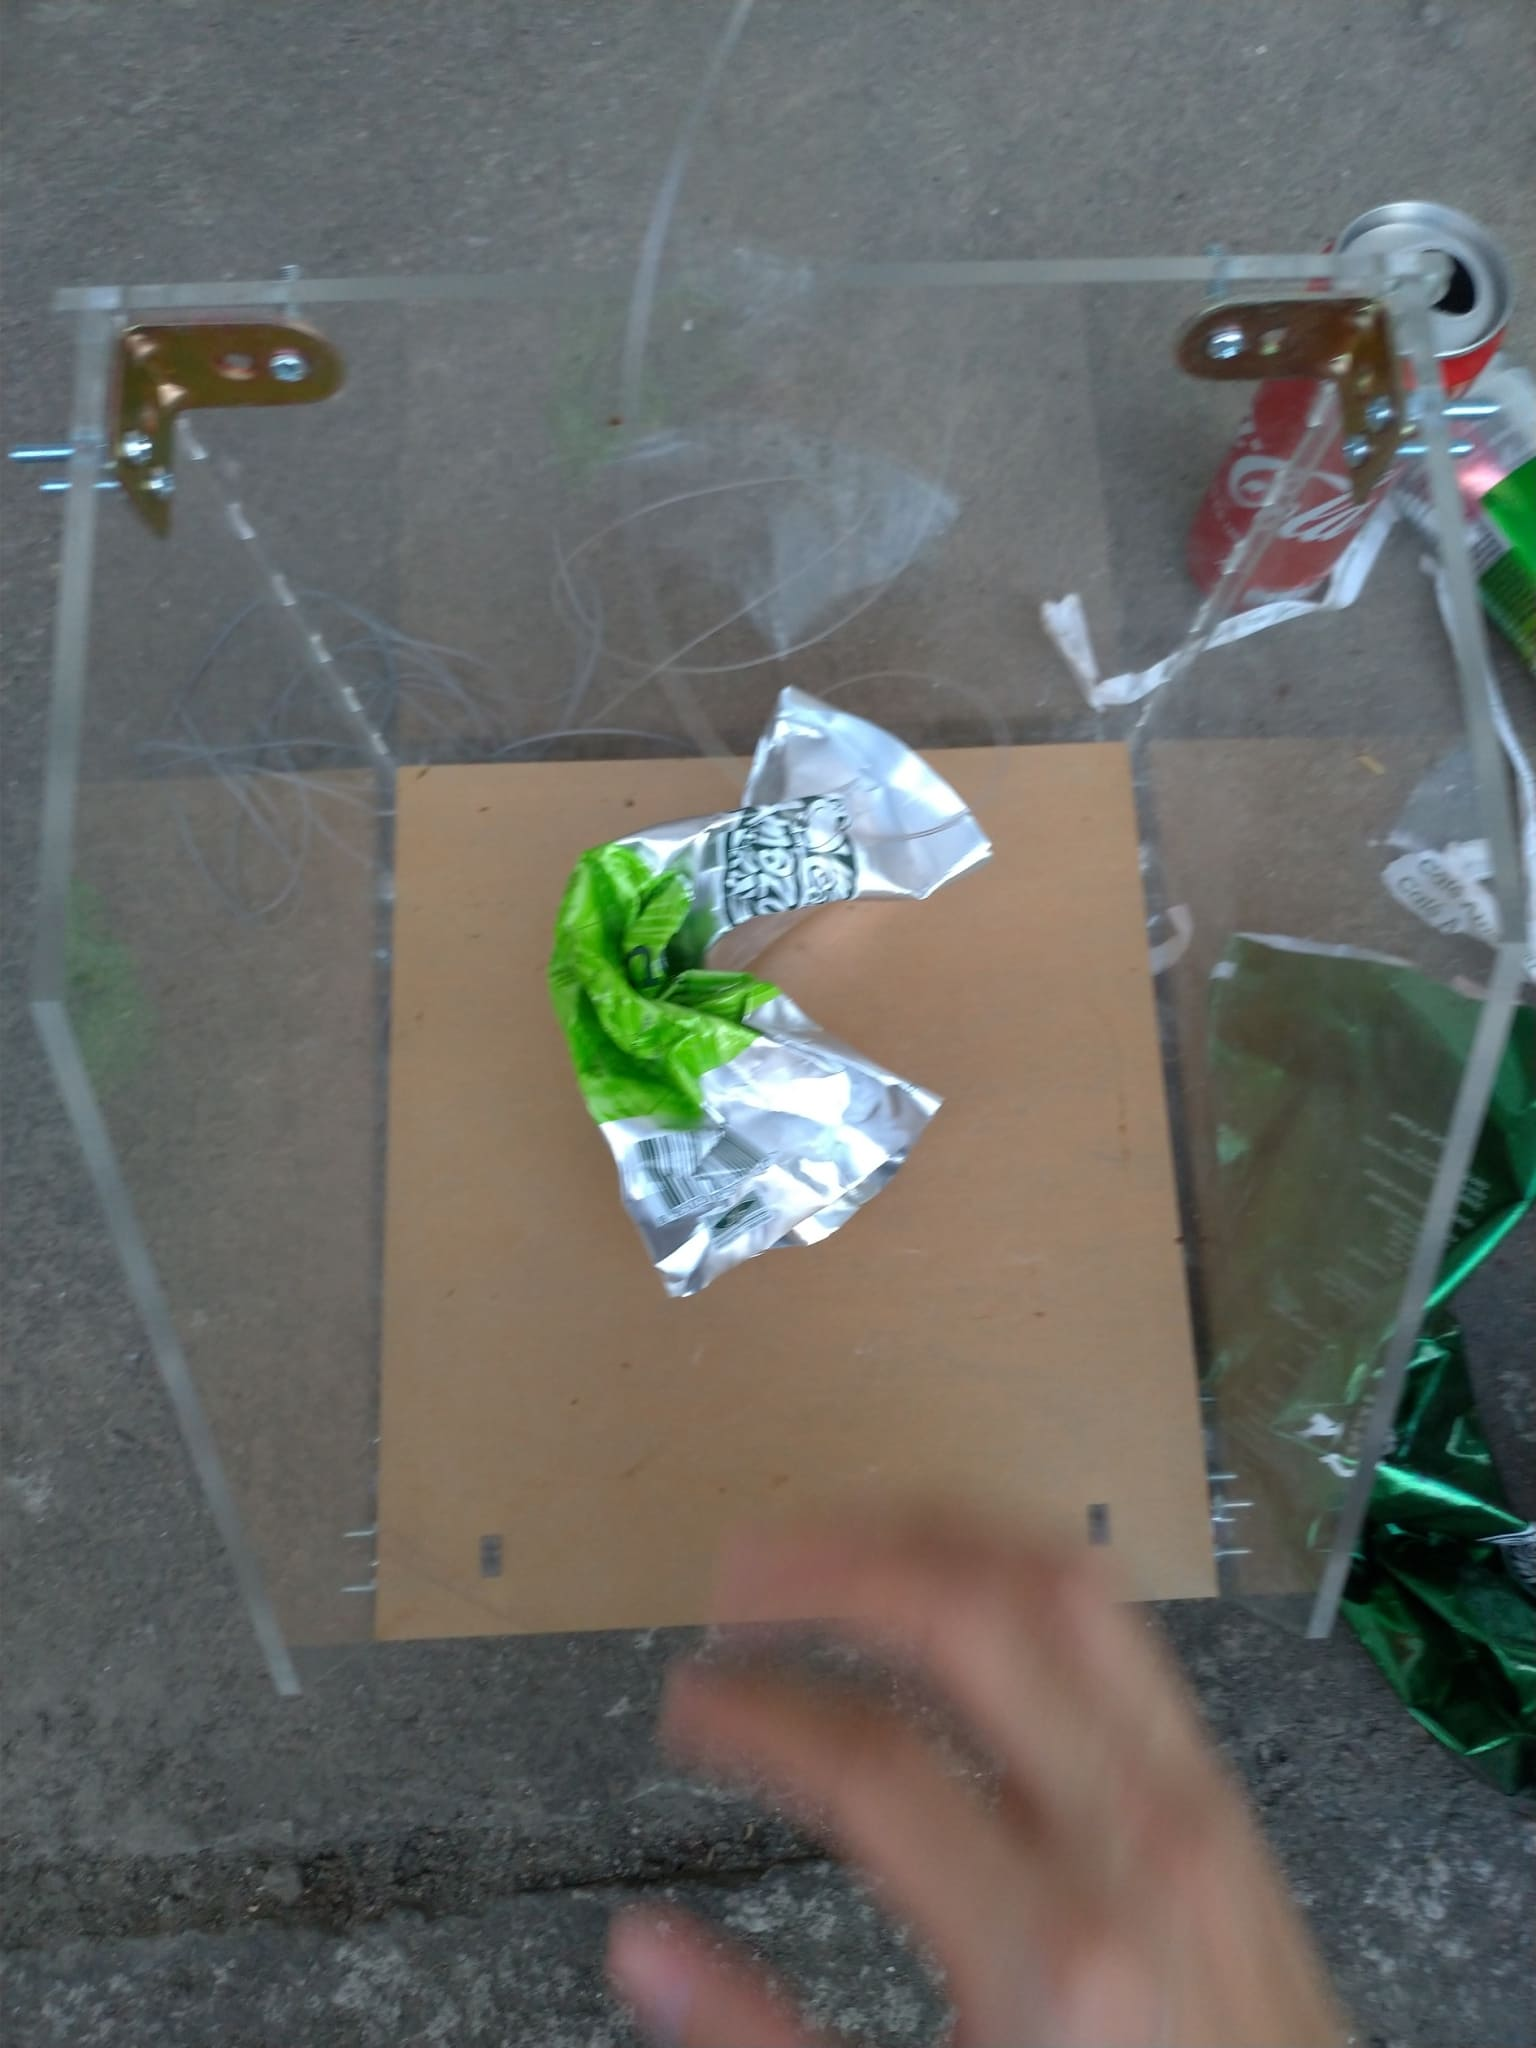AlCan: (1183, 200, 1512, 616)
Others: (1191, 932, 1536, 1796), (549, 677, 991, 1300), (1042, 529, 1409, 716), (1400, 555, 1536, 937)
